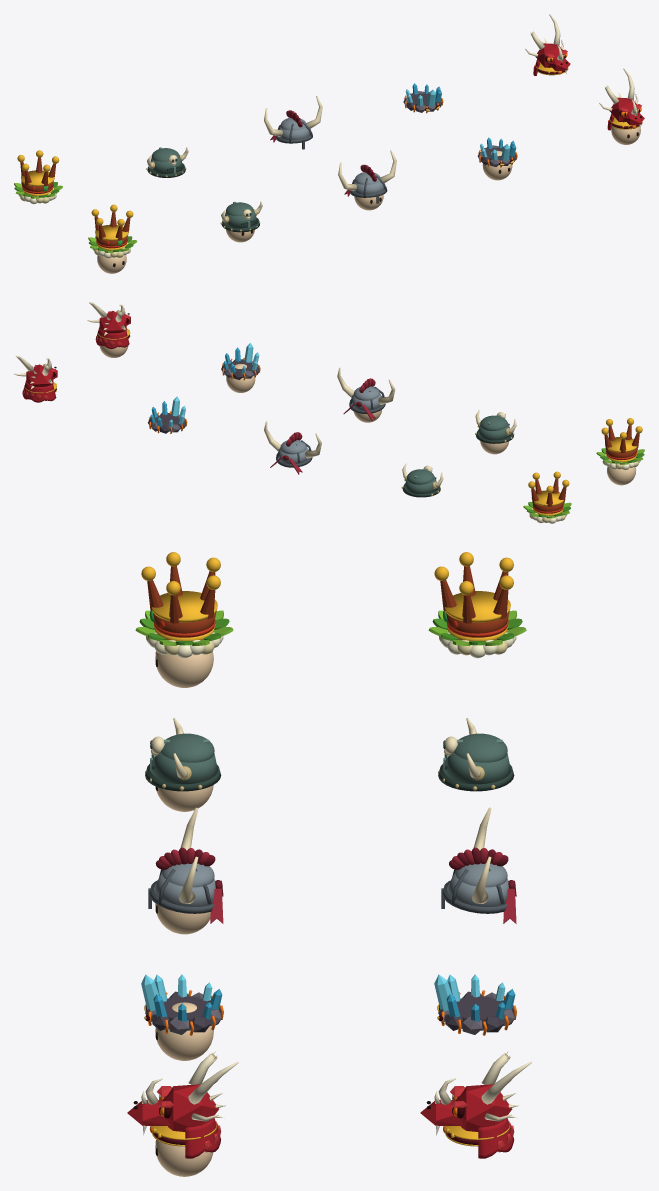
Rendered from coiffes-legendaires.glb.
3 views of the same model, one above another, from view 1: azimuth 30°, elevation 25°; view 2: azimuth 150°, elevation 25°; view 3: azimuth 270°, elevation 25° (orthographic). The views are drawn at different scales.
Visible parts, largest first — view 1: tete_neutre, tete_neutre.004, tete_neutre.003; view 2: couvre_nuque, crane.005, crane.004, couvre_nuque.002, tete_neutre, tete_neutre.003, casque.003, casque.001; view 3: tete_neutre, tete_neutre.003, crane.004, crane.005, casque.002, casque, tete_neutre.004, casque.001, casque.003, couronne_or.003, couronne_or.001, tete_neutre.002 (+5 smaller).
Part boxes in pixels (box(x1,y1,x2,y2)): tete_neutre: box(97, 255, 126, 273); tete_neutre.004: box(611, 122, 640, 144); tete_neutre.003: box(482, 150, 512, 180); couvre_nuque: box(22, 380, 56, 402); crane.005: box(99, 311, 126, 333); crane.004: box(26, 364, 53, 386); couvre_nuque.002: box(95, 327, 129, 348); tete_neutre: box(607, 466, 636, 485); tete_neutre.003: box(226, 364, 255, 392); casque.003: box(480, 415, 507, 430); casque.001: box(407, 469, 434, 484); tete_neutre: box(155, 651, 213, 687); tete_neutre.003: box(155, 1002, 213, 1060); crane.004: box(456, 1084, 512, 1131); crane.005: box(162, 1084, 218, 1131); casque.002: box(150, 752, 217, 784); casque: box(443, 752, 510, 784); tete_neutre.004: box(155, 1140, 213, 1176); casque.001: box(454, 733, 507, 762); casque.003: box(161, 733, 214, 762); couronne_or.003: box(152, 591, 217, 622); couronne_or.001: box(445, 591, 510, 622); tete_neutre.002: box(155, 903, 210, 934).
Bounding box in the file's own units: 17.26 × 1.98 × 5.53.
